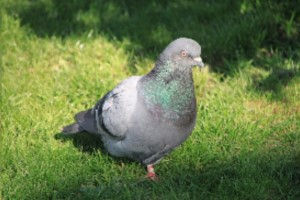pigeon: (57, 36, 207, 185)
